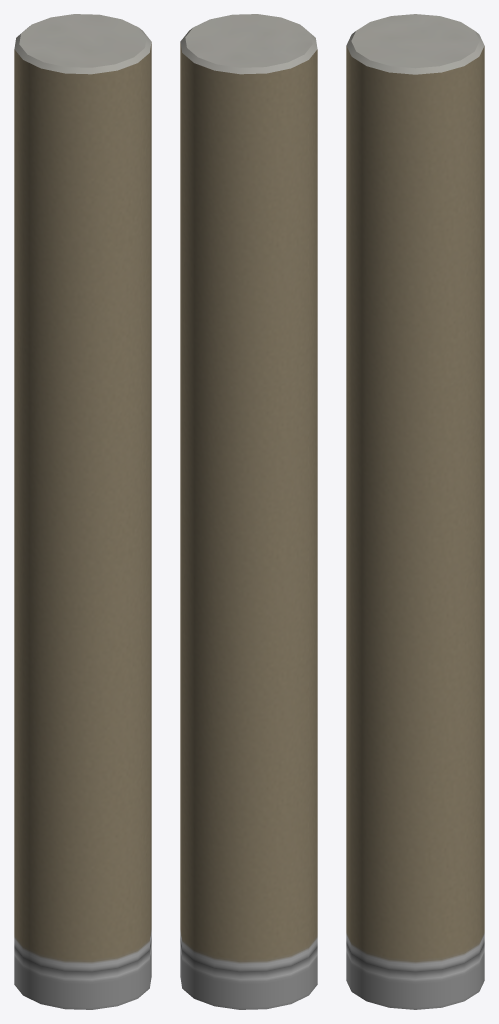
File: column1_2.fbx
3 views of the same model, side by side, from view 1: azimuth 30°, elevation 25°; view 2: azimuth 150°, elevation 25°; view 3: azimuth 270°, elevation 25° (orthographic).
Visible parts, largest first — view 1: column1_b; view 2: column1_b; view 3: column1_b.
Boxes of the visible parts, x1,y1,x2,y2 form: column1_b: (14,14,151,1009); column1_b: (180,14,317,1009); column1_b: (346,14,484,1009).
Bounding box in the file's own units: 80 × 600 × 80.
